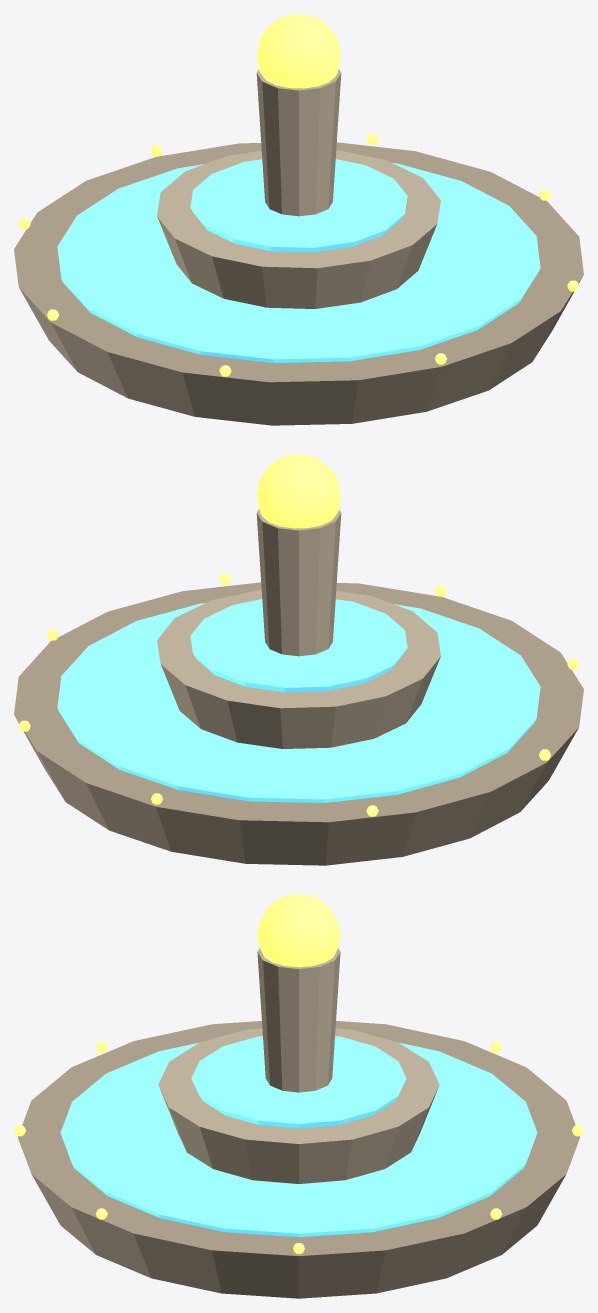
File: fountain.glb
3 renders of one model, top to bottom at view 1: azimuth 30°, elevation 25°; view 2: azimuth 150°, elevation 25°; view 3: azimuth 270°, elevation 25°, orthographic.
Visible parts, largest first — view 1: fountain; view 2: fountain; view 3: fountain.
Part boxes in pixels (<box>): fountain: <box>14,14,583,425</box>; fountain: <box>14,454,583,865</box>; fountain: <box>14,894,583,1298</box>.
Size of the model in its own units: 4.65 by 2.66 by 4.66.
